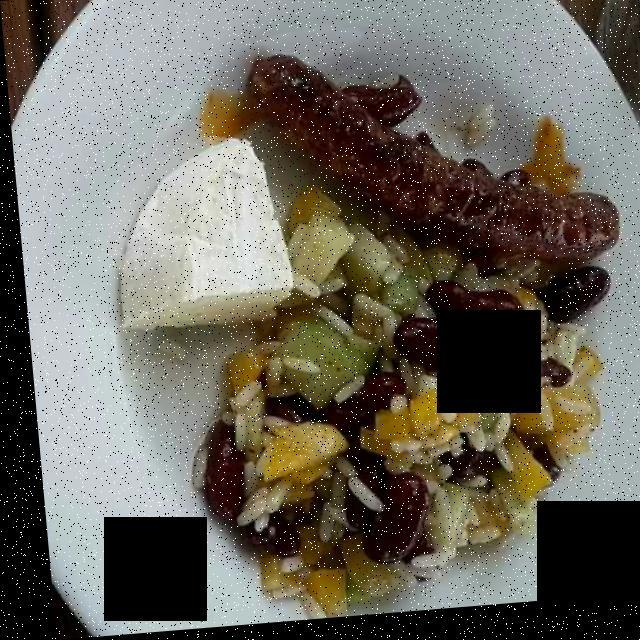beans: (188, 259, 622, 591)
bell-pepper: (224, 380, 599, 491)
rice: (225, 285, 572, 588)
tomme: (88, 97, 291, 345)
